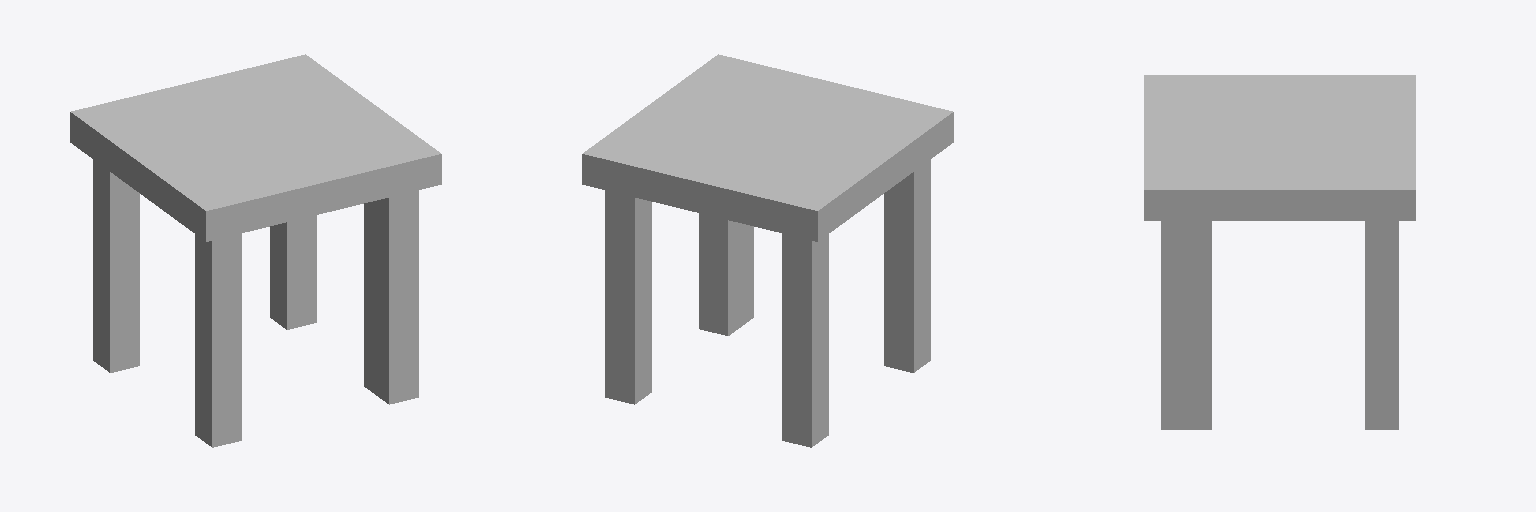
File: mineral_table_model_obj.obj
The picture shows the model from 3 angles: view 1: azimuth 30°, elevation 25°; view 2: azimuth 150°, elevation 25°; view 3: azimuth 270°, elevation 25°; orthographic projection.
Parts seen in each view (by area): view 1: tampao, pé; view 2: tampao, pé; view 3: tampao, pé.
Part boxes in pixels (bbox=[...]): tampao: bbox=[70, 54, 441, 241]; pé: bbox=[93, 160, 418, 447]; tampao: bbox=[582, 54, 953, 241]; pé: bbox=[605, 160, 930, 447]; tampao: bbox=[1144, 75, 1415, 220]; pé: bbox=[1161, 221, 1398, 429].
Bounding box in the file's own units: 1 × 1 × 1.